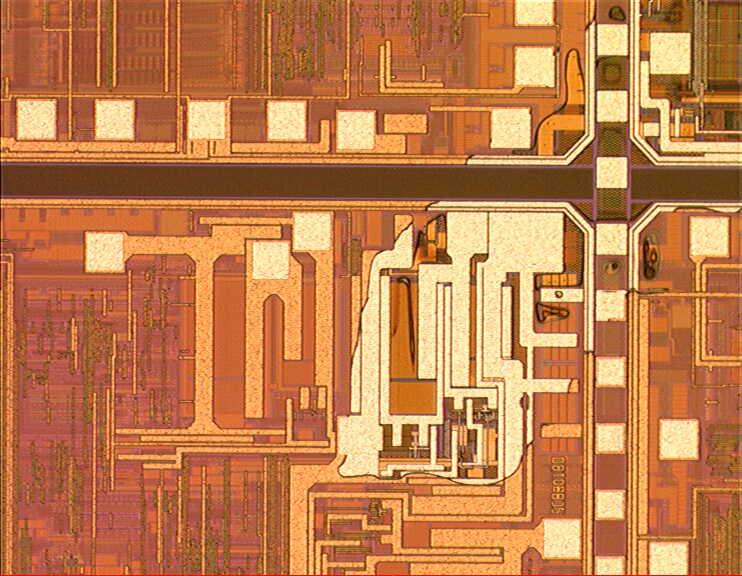COATING BAD: (331, 1, 742, 497)
